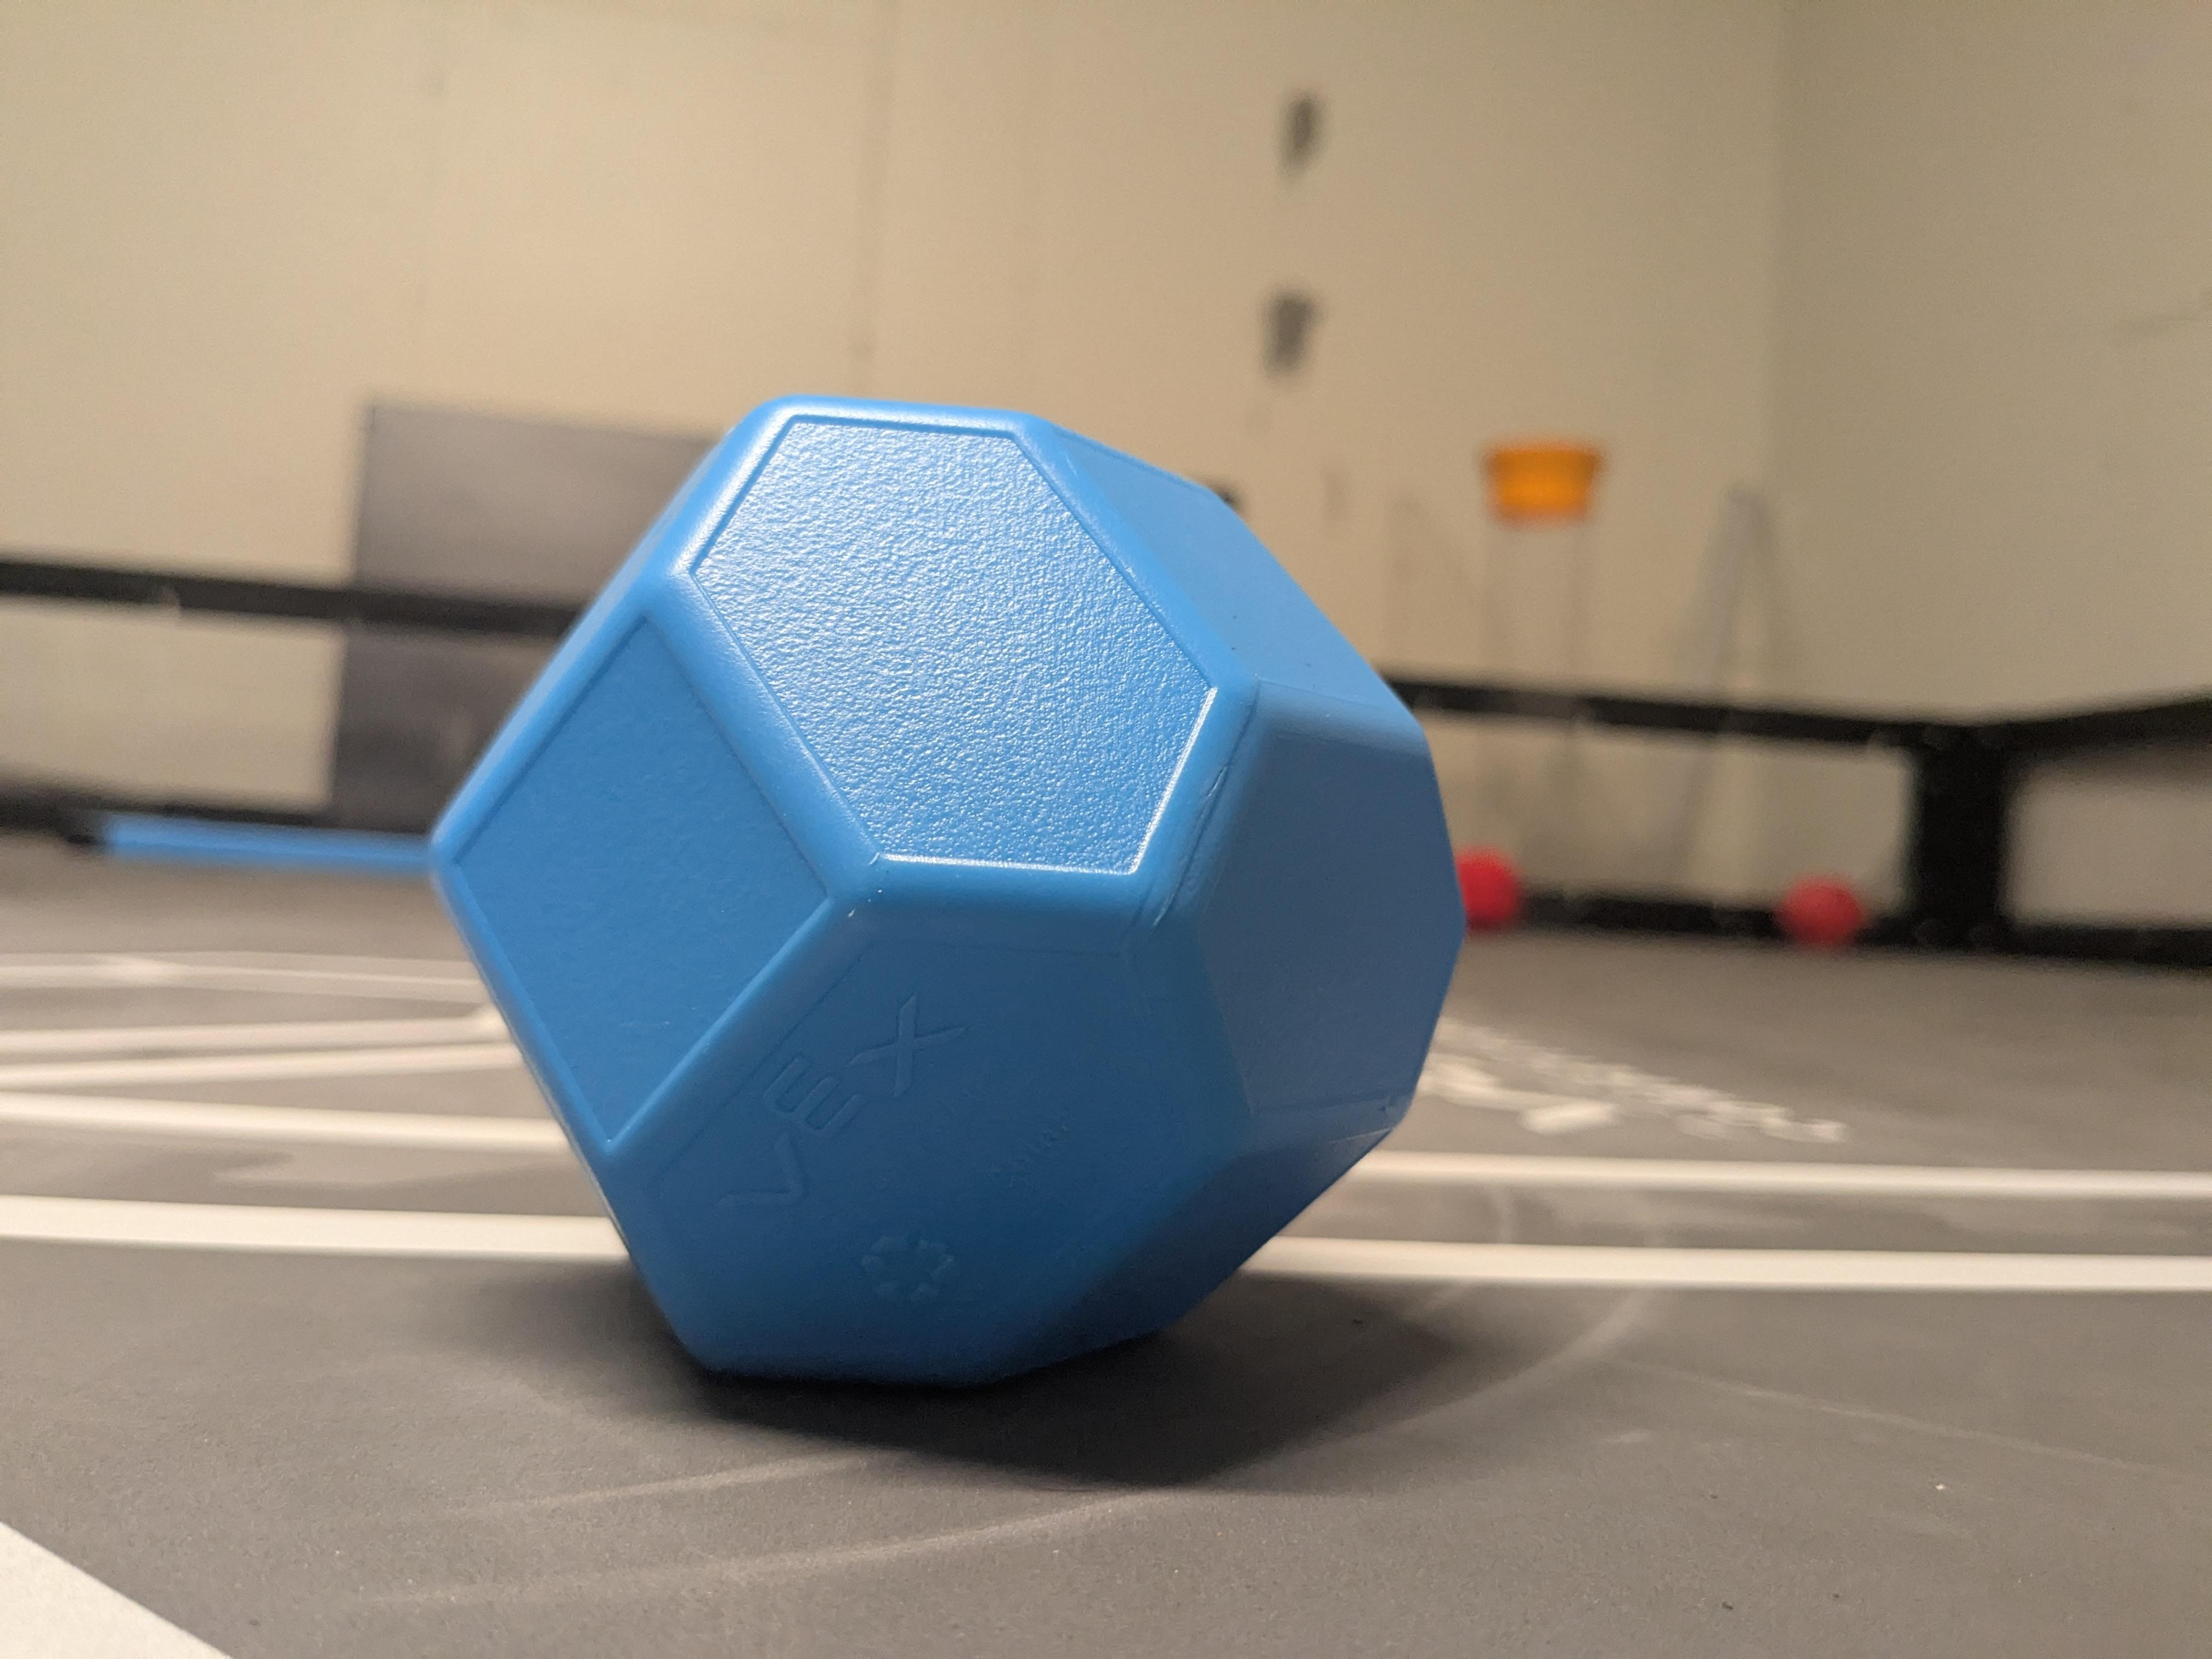Vex-Pieces-BLUE: (432, 397, 1463, 1382)
